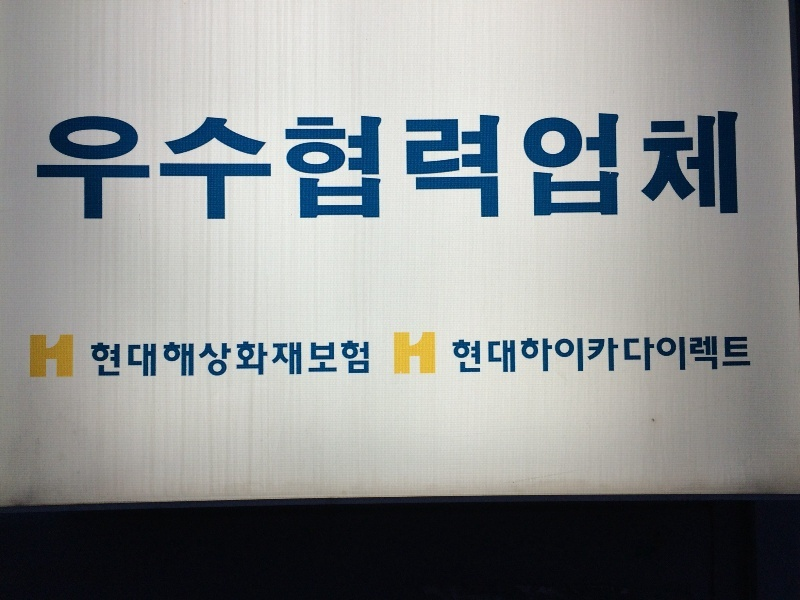text: (49, 106, 64, 224), (65, 106, 80, 224), (81, 106, 96, 224), (97, 106, 112, 224), (113, 106, 128, 224), (129, 106, 144, 224), (145, 106, 160, 224), (161, 106, 176, 224), (177, 106, 192, 224), (193, 106, 208, 224), (209, 106, 224, 224), (225, 106, 240, 224), (241, 106, 256, 224), (257, 106, 272, 224), (273, 106, 288, 224), (289, 106, 304, 224), (305, 106, 320, 224), (321, 106, 336, 224), (337, 106, 352, 224), (353, 106, 368, 224), (369, 106, 384, 224), (385, 106, 400, 224), (401, 106, 416, 224), (417, 106, 432, 224), (433, 106, 448, 224), (449, 106, 464, 224), (465, 106, 480, 224), (481, 106, 496, 224), (497, 106, 512, 224), (513, 106, 528, 224), (529, 106, 544, 224), (545, 106, 560, 224), (561, 106, 576, 224), (577, 106, 592, 224), (593, 106, 608, 224), (609, 106, 624, 224), (625, 106, 640, 224), (641, 106, 656, 224), (657, 106, 672, 224), (673, 106, 688, 224), (689, 106, 704, 224), (705, 106, 720, 224), (721, 106, 736, 224), (34, 106, 48, 224), (737, 106, 743, 224), (401, 332, 416, 375), (417, 332, 432, 375), (33, 335, 48, 378), (49, 335, 64, 378), (465, 335, 480, 375), (481, 335, 496, 375), (497, 335, 512, 375), (513, 335, 528, 375), (529, 335, 544, 375), (545, 335, 560, 375), (561, 335, 576, 375), (577, 335, 592, 375), (593, 335, 608, 375), (609, 335, 624, 375), (625, 335, 640, 375), (641, 335, 656, 375), (657, 335, 672, 375), (673, 335, 688, 375), (689, 335, 704, 375), (705, 335, 720, 375), (721, 335, 736, 375), (737, 335, 752, 375), (97, 340, 112, 378), (113, 340, 128, 378), (129, 340, 144, 378), (145, 340, 160, 378), (161, 340, 176, 378), (177, 340, 192, 378), (193, 340, 208, 378), (209, 340, 224, 378), (225, 340, 240, 378), (241, 340, 256, 378), (257, 340, 272, 378), (273, 340, 288, 378), (289, 340, 304, 378), (305, 340, 320, 378), (321, 340, 336, 378), (337, 340, 352, 378), (353, 340, 368, 378), (452, 335, 464, 375), (65, 335, 73, 378), (394, 332, 400, 375), (91, 340, 96, 378), (433, 332, 436, 375), (30, 335, 32, 378), (369, 340, 370, 378)
